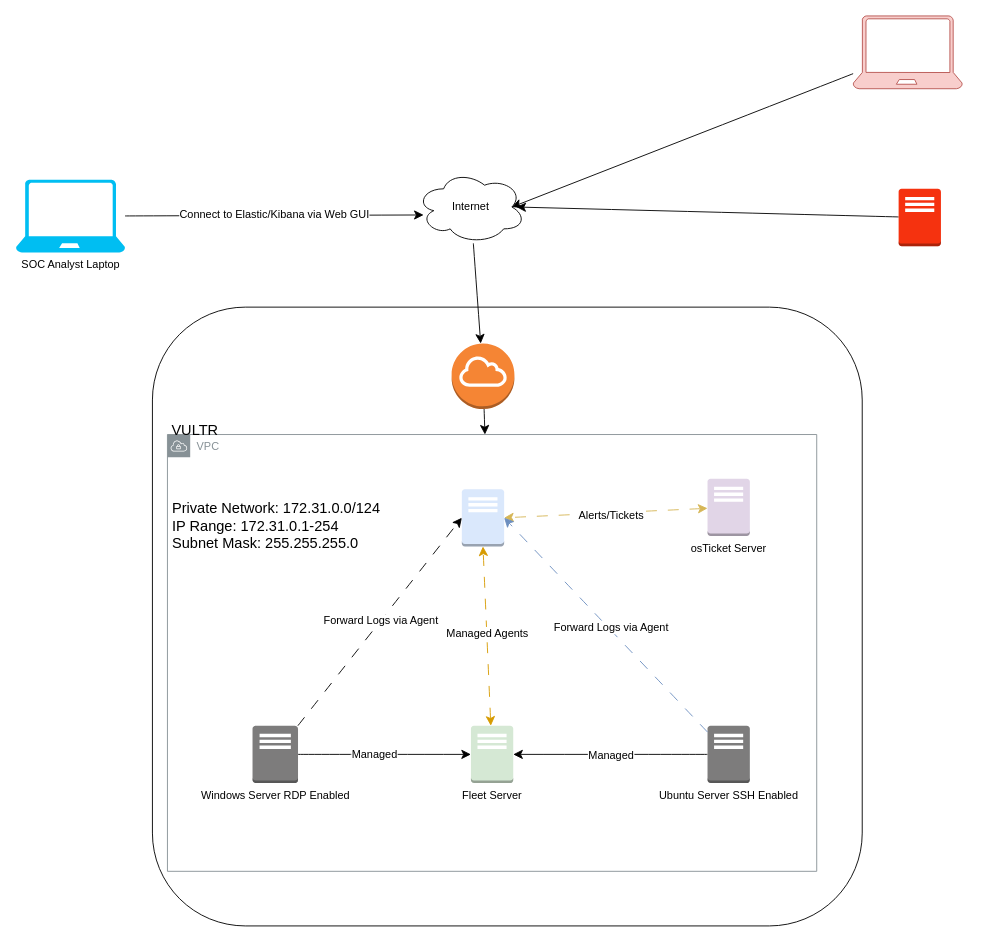
The diagram is 986 pixels wide and 942 high, and some of its shapes have lost their labels. The box of each missing label's shape, as (x1, y1, x2, y2) in pixels:
Attacker Laptop Kali Linux: (852, 15, 962, 89)
C2 Server Mythic: (898, 188, 941, 246)
Elastic & Kibana: (461, 488, 504, 546)
